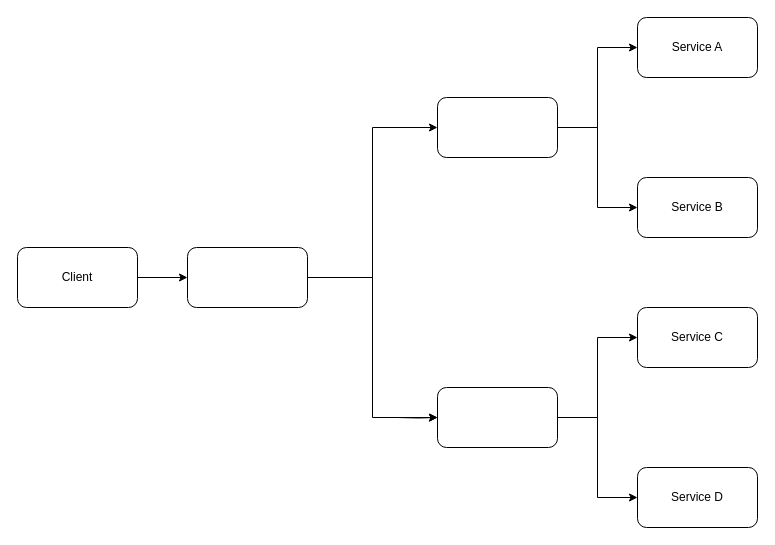
Image size: 775x545. Some labels were removed from this diagram. The centre of each missing label's shape, as x and y in pixels:
Company Gateway: the point at 247,277
Domain Gateway A: the point at 497,127
Domain Gateway B: the point at 497,417
